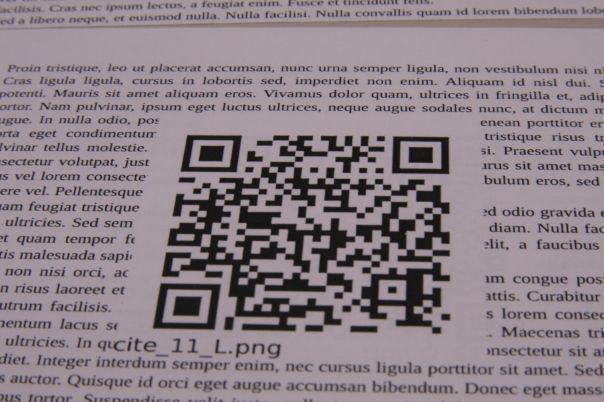qr_code: (152, 134, 450, 335)
